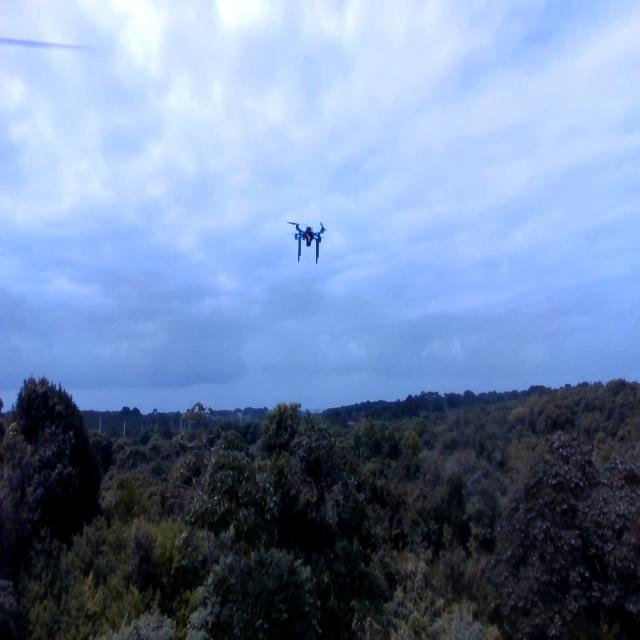-uav-: (281, 203, 336, 276)
